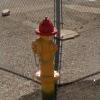Hydrant: (23, 8, 64, 100)
